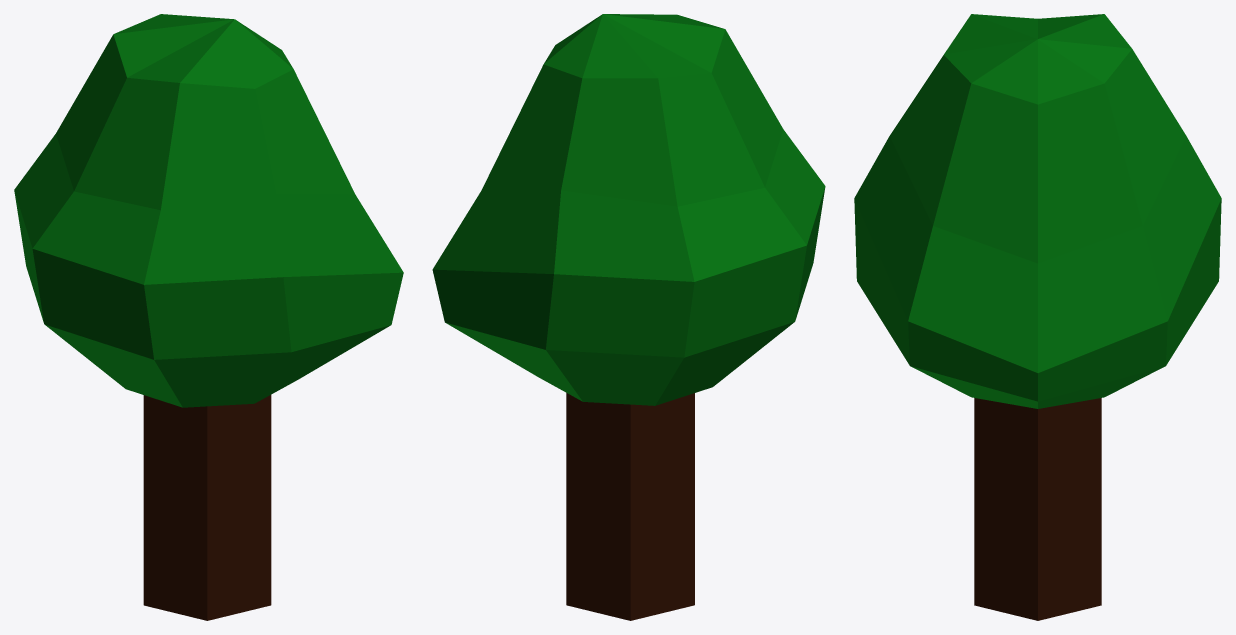
File: tree2.fbx
3 renders of one model, left to right at view 1: azimuth 30°, elevation 25°; view 2: azimuth 150°, elevation 25°; view 3: azimuth 270°, elevation 25°, orthographic.
Parts seen in each view (by area): view 1: Sphere001, Cylinder001; view 2: Sphere001, Cylinder001; view 3: Sphere001, Cylinder001.
Boxes of the visible parts, left/top/right/bottom form: Sphere001: left=14, top=14, right=403, bottom=407; Cylinder001: left=143, top=395, right=271, bottom=620; Sphere001: left=432, top=14, right=825, bottom=405; Cylinder001: left=566, top=393, right=694, bottom=620; Sphere001: left=854, top=14, right=1221, bottom=408; Cylinder001: left=974, top=398, right=1101, bottom=620.
Size of the model in its own units: 63.29 by 101 by 59.84.
